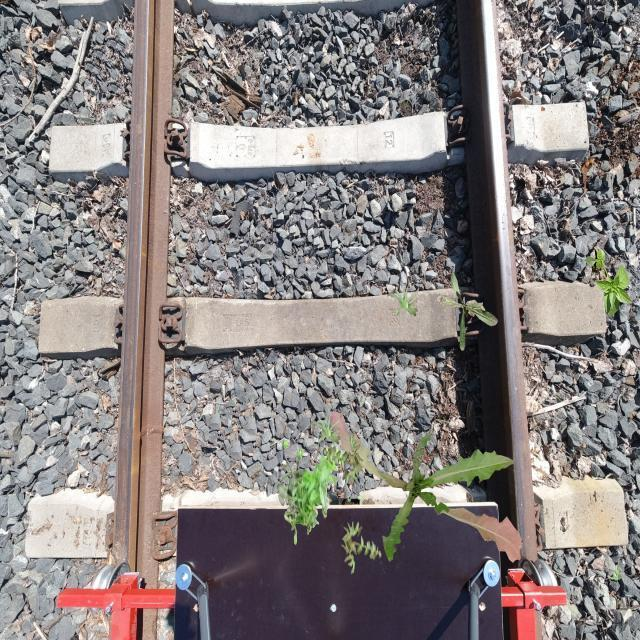Plant: (330, 411, 522, 563), (281, 437, 346, 544), (435, 267, 499, 351), (586, 247, 634, 318), (341, 521, 382, 575), (323, 432, 364, 486), (277, 476, 320, 526), (387, 283, 420, 318), (310, 411, 342, 446), (609, 564, 623, 580)
